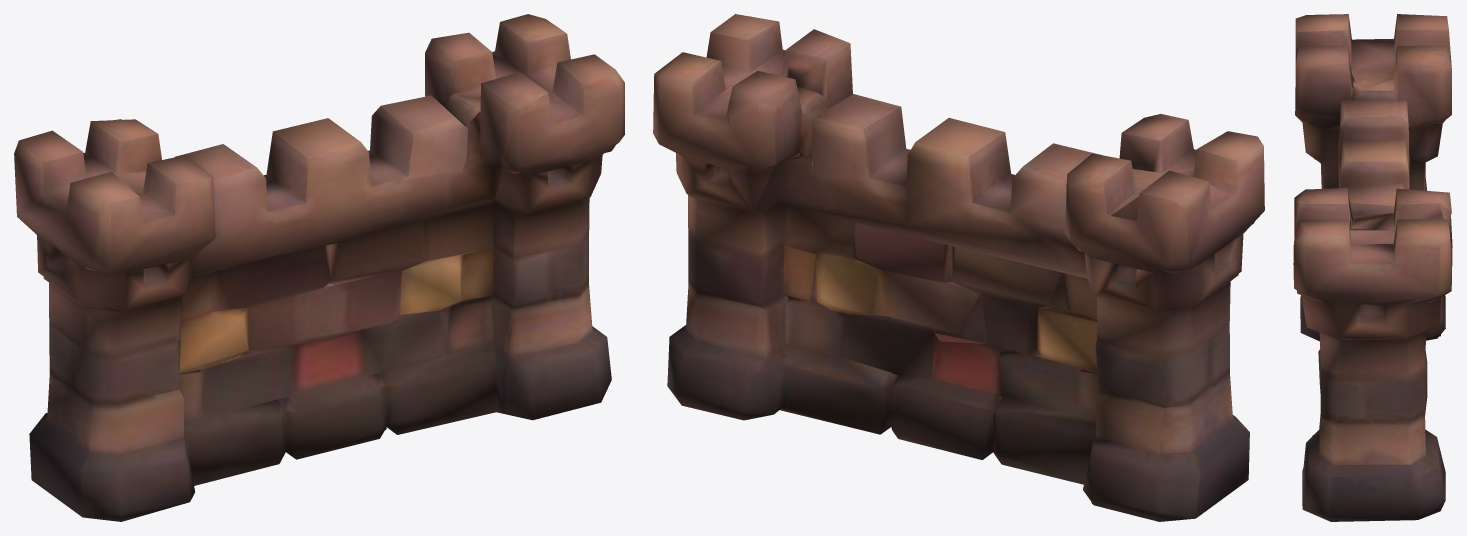
File: x-wall-stone-straight.glb
3 views of the same model, side by side, from view 1: azimuth 30°, elevation 25°; view 2: azimuth 150°, elevation 25°; view 3: azimuth 270°, elevation 25° (orthographic). The views are drawn at different scales.
Parts seen in each view (by area): view 1: geometry_0; view 2: geometry_0; view 3: geometry_0.
Part boxes in pixels (box(x1,y1,x2,y2)): geometry_0: box(14, 14, 624, 521); geometry_0: box(653, 14, 1264, 521); geometry_0: box(1293, 14, 1452, 521).
Size of the model in its own units: 1 by 0.5928 by 0.2968.
Materials: 1 (1 with a texture image).
